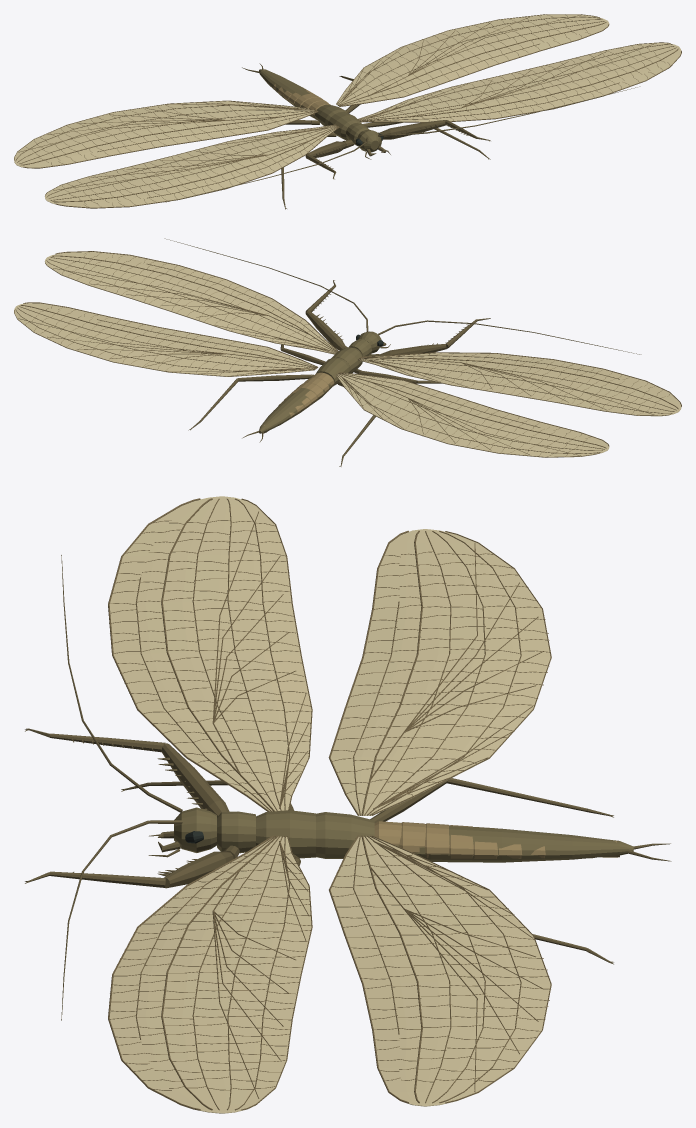
3 views of the same model, one above another, from view 1: azimuth 30°, elevation 25°; view 2: azimuth 150°, elevation 25°; view 3: azimuth 270°, elevation 25° (orthographic). The views are drawn at different scales.
Visible parts, largest first — view 1: Four-rounded-wing-membranes, Simplified-longitudinal-and-net-veins, Six-legs-antennae-mouthparts-and-cerci, Head-and-three-thoracic-segments, Segmented-abdominal-tergites; view 2: Four-rounded-wing-membranes, Simplified-longitudinal-and-net-veins, Six-legs-antennae-mouthparts-and-cerci, Head-and-three-thoracic-segments, Segmented-abdominal-tergites; view 3: Four-rounded-wing-membranes, Simplified-longitudinal-and-net-veins, Head-and-three-thoracic-segments, Six-legs-antennae-mouthparts-and-cerci, Segmented-abdominal-tergites.
Part boxes in pixels (<box>): Four-rounded-wing-membranes: <box>14,14,681,208</box>; Simplified-longitudinal-and-net-veins: <box>14,14,681,208</box>; Six-legs-antennae-mouthparts-and-cerci: <box>165,63,640,209</box>; Head-and-three-thoracic-segments: <box>259,69,381,152</box>; Segmented-abdominal-tergites: <box>263,69,330,119</box>; Four-rounded-wing-membranes: <box>14,251,681,457</box>; Simplified-longitudinal-and-net-veins: <box>14,251,681,457</box>; Six-legs-antennae-mouthparts-and-cerci: <box>164,238,641,466</box>; Head-and-three-thoracic-segments: <box>259,331,381,433</box>; Segmented-abdominal-tergites: <box>263,372,334,433</box>; Four-rounded-wing-membranes: <box>109,496,550,1113</box>; Simplified-longitudinal-and-net-veins: <box>108,498,551,1110</box>; Head-and-three-thoracic-segments: <box>174,807,633,862</box>; Six-legs-antennae-mouthparts-and-cerci: <box>25,555,671,1020</box>; Segmented-abdominal-tergites: <box>374,821,619,858</box>.
Size of the model in its own units: 0.31 by 0.024 by 0.1374.
